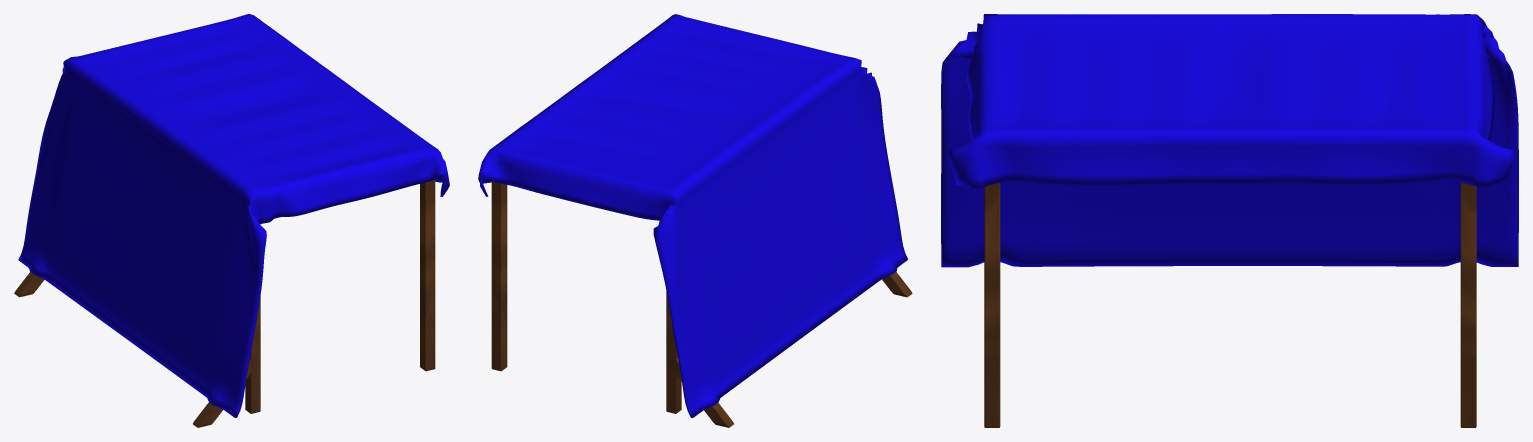
Rendered from Canopy02.glb.
3 renders of one model, left to right at view 1: azimuth 30°, elevation 25°; view 2: azimuth 150°, elevation 25°; view 3: azimuth 270°, elevation 25°, orthographic. The views are drawn at different scales.
Parts seen in each view (by area): view 1: canopy2; view 2: canopy2; view 3: canopy2.
Boxes of the visible parts, bbox=[...] form: canopy2: bbox=[14, 14, 449, 427]; canopy2: bbox=[478, 14, 912, 427]; canopy2: bbox=[941, 14, 1518, 427].
Size of the model in its own units: 7.32 by 6.31 by 11.08.
Materials: 2 (1 with a texture image).
